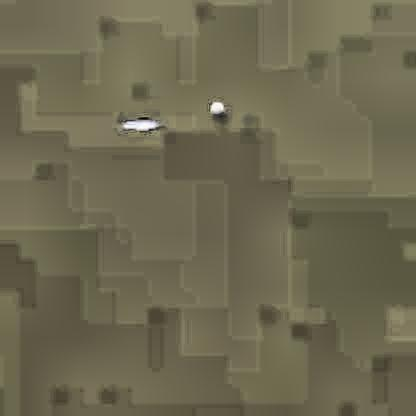golfball: (208, 98, 223, 113)
